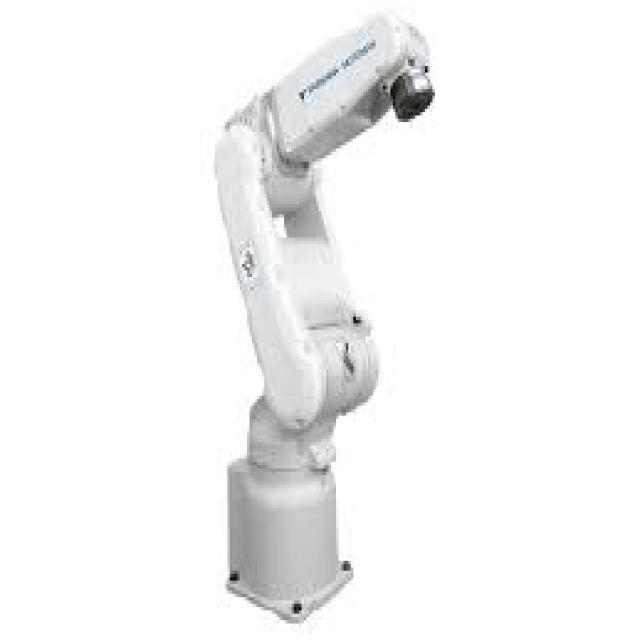Robotic-arm: (207, 3, 434, 630)
